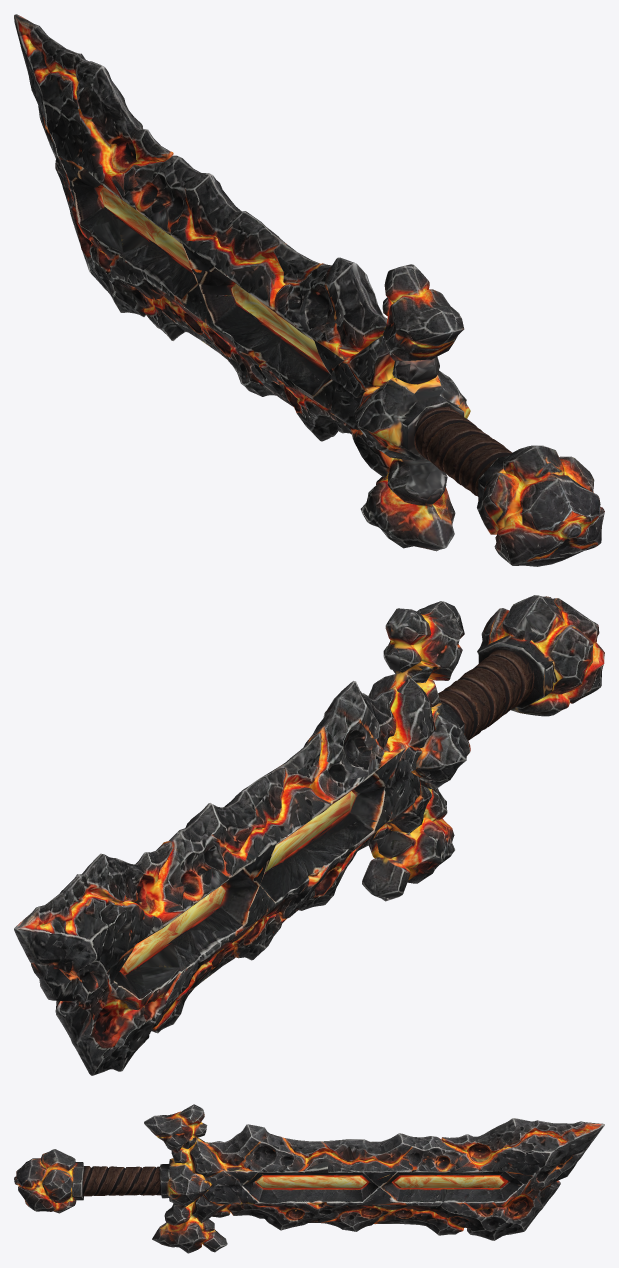
The model's file is Sword_Meteorite.fbx.
3 renders of one model, top to bottom at view 1: azimuth 30°, elevation 25°; view 2: azimuth 150°, elevation 25°; view 3: azimuth 270°, elevation 25°, orthographic. The views are drawn at different scales.
Parts seen in each view (by area): view 1: Sword_Meteorite; view 2: Sword_Meteorite; view 3: Sword_Meteorite.
Part boxes in pixels (left/top/right/bottom): Sword_Meteorite: left=14, top=14, right=604, bottom=566; Sword_Meteorite: left=14, top=595, right=604, bottom=1075; Sword_Meteorite: left=14, top=1104, right=604, bottom=1253.
Bounding box in the file's own units: 58.1 × 142 × 520.
1 material, 1 textured.
